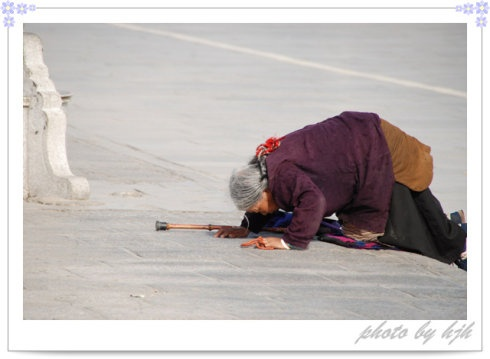falling: (211, 112, 470, 275)
